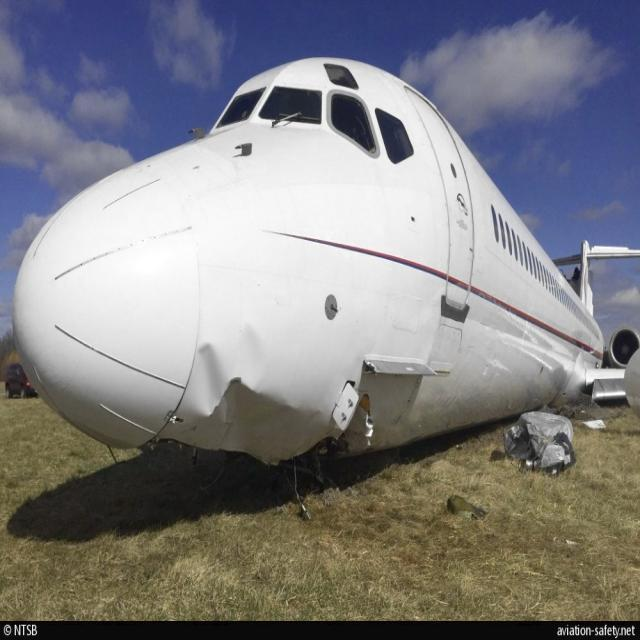dent: (200, 344, 227, 409), (240, 325, 266, 386)
